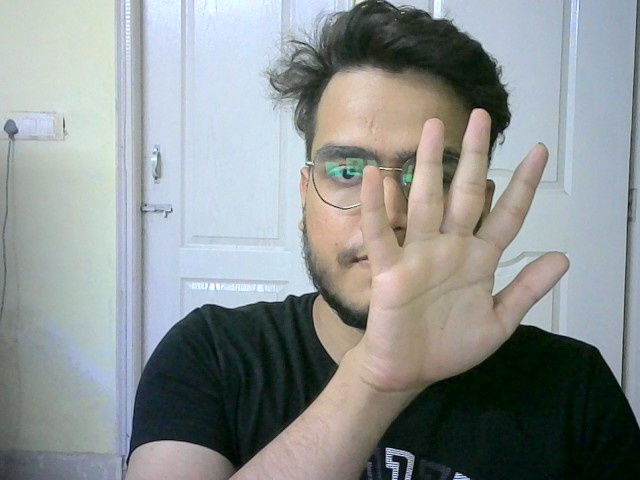Hello: (356, 105, 574, 398)
